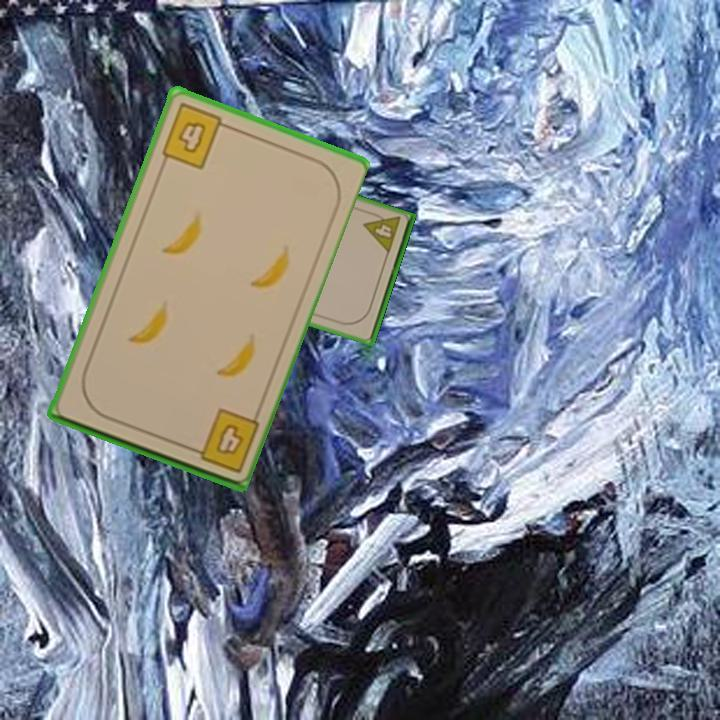4b: (157, 99, 234, 173), (183, 405, 262, 476)
4p: (360, 208, 403, 257)
